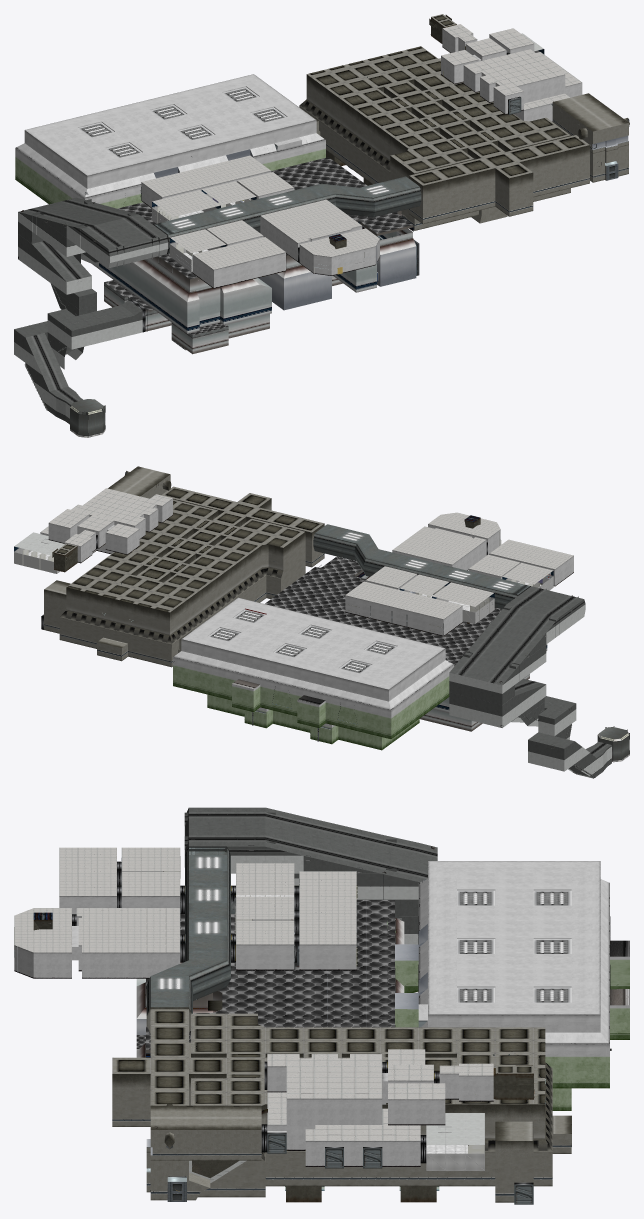
File: Level5Niv1.obj
3 renders of one model, top to bottom at view 1: azimuth 30°, elevation 25°; view 2: azimuth 150°, elevation 25°; view 3: azimuth 270°, elevation 25°, orthographic. The views are drawn at different scales.
Visible parts, largest first — view 1: Lvl5Niv1; view 2: Lvl5Niv1; view 3: Lvl5Niv1.
Boxes of the visible parts, x1,y1,x2,y2 form: Lvl5Niv1: [14, 14, 629, 437]; Lvl5Niv1: [14, 466, 629, 778]; Lvl5Niv1: [14, 807, 629, 1204].
Size of the model in its own units: 93.35 by 31.99 by 64.37.
15 materials, 15 textured.
